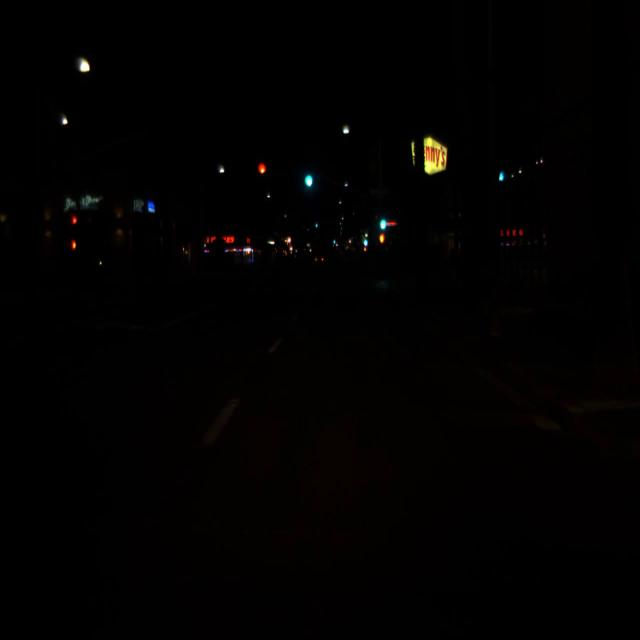go: (302, 160, 314, 190), (377, 206, 387, 232), (362, 232, 368, 246)
go traffic light: (302, 160, 314, 190), (377, 206, 387, 232), (362, 232, 368, 246)
stop left: (257, 163, 267, 184), (72, 216, 77, 232)
stop left traffic light: (257, 163, 267, 184), (72, 216, 77, 232)
